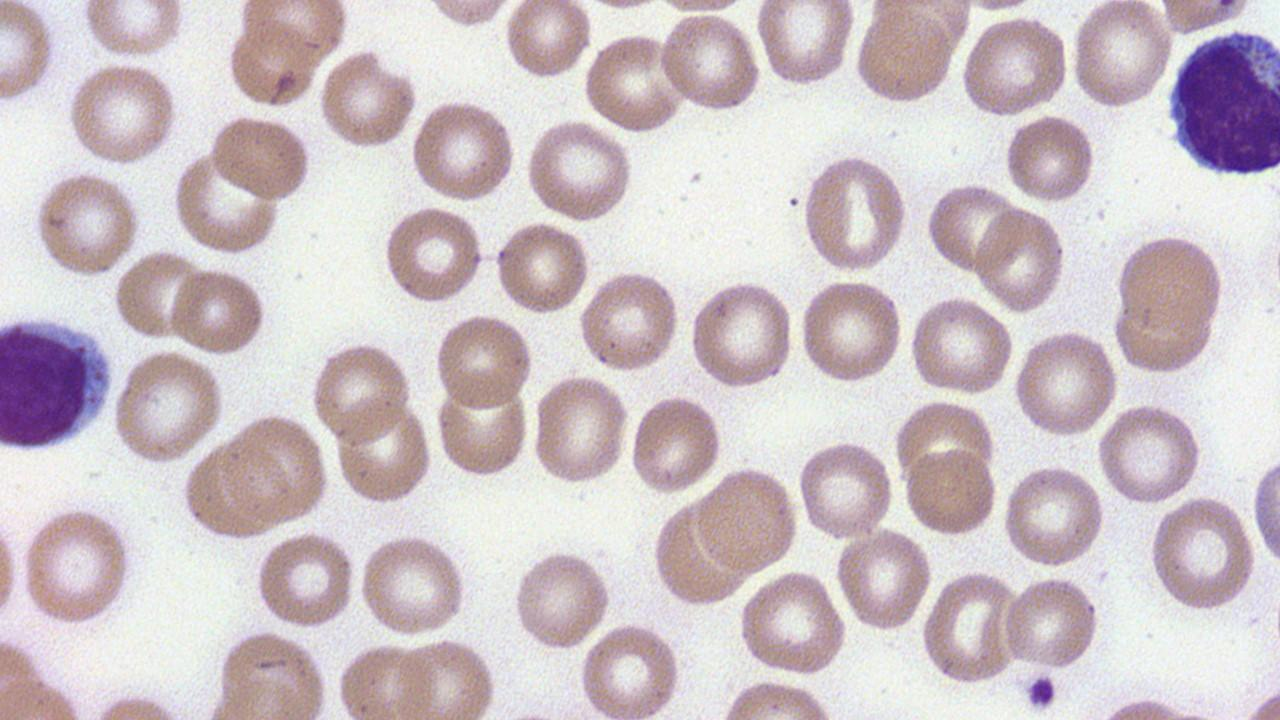Platelets: (1024, 668, 1058, 716)
RBC: (19, 505, 135, 625), (798, 151, 910, 274), (111, 347, 226, 466), (1146, 493, 1258, 614), (734, 568, 848, 678), (31, 169, 142, 281), (687, 277, 795, 392), (796, 276, 906, 388), (1012, 327, 1121, 439), (222, 412, 328, 527), (64, 61, 180, 166), (920, 567, 1022, 686), (172, 146, 283, 255), (357, 532, 468, 640), (958, 13, 1069, 120), (692, 464, 798, 576), (180, 438, 293, 543), (1114, 232, 1230, 334), (524, 118, 636, 223), (530, 371, 630, 488), (1069, 1, 1175, 111), (409, 97, 518, 203), (1095, 400, 1205, 505), (308, 337, 413, 445), (509, 545, 614, 653), (209, 628, 332, 720), (656, 9, 763, 114), (908, 293, 1016, 397), (1000, 464, 1104, 570), (576, 268, 680, 374), (381, 203, 486, 306), (316, 48, 418, 154), (253, 528, 356, 632), (834, 526, 933, 634), (576, 620, 685, 718), (794, 437, 896, 541), (583, 31, 685, 135), (972, 204, 1067, 315), (432, 311, 534, 414), (331, 402, 432, 506), (852, 7, 956, 105), (492, 218, 591, 318), (207, 111, 314, 203), (629, 392, 723, 496), (168, 264, 271, 358), (433, 380, 530, 479), (1002, 574, 1102, 670), (902, 444, 1000, 540), (392, 634, 500, 718), (752, 1, 856, 88), (1002, 111, 1098, 205), (923, 179, 1016, 276), (224, 21, 321, 109), (1112, 296, 1218, 376), (112, 250, 203, 342), (502, 1, 592, 83), (240, 3, 349, 67), (81, 2, 185, 60), (0, 2, 57, 106), (1153, 0, 1263, 35), (1249, 447, 1279, 575), (420, 1, 512, 30)
WBC: (1164, 22, 1280, 182), (0, 308, 117, 456)
